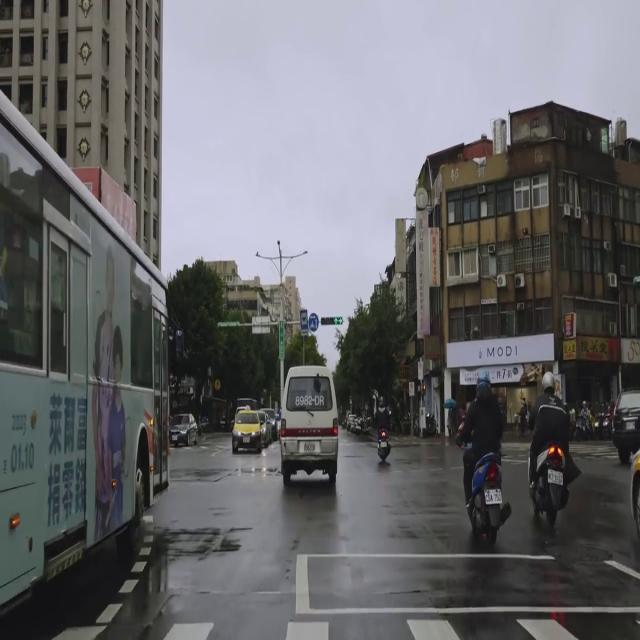green light: (321, 316, 344, 326)
